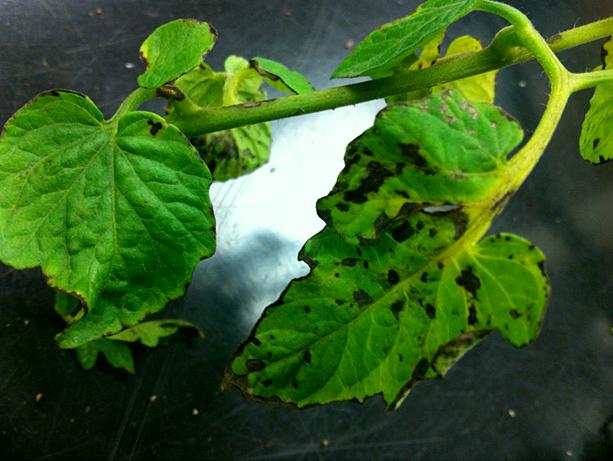Tomato leaf bacterial spot: (219, 98, 576, 406), (5, 94, 228, 381)
